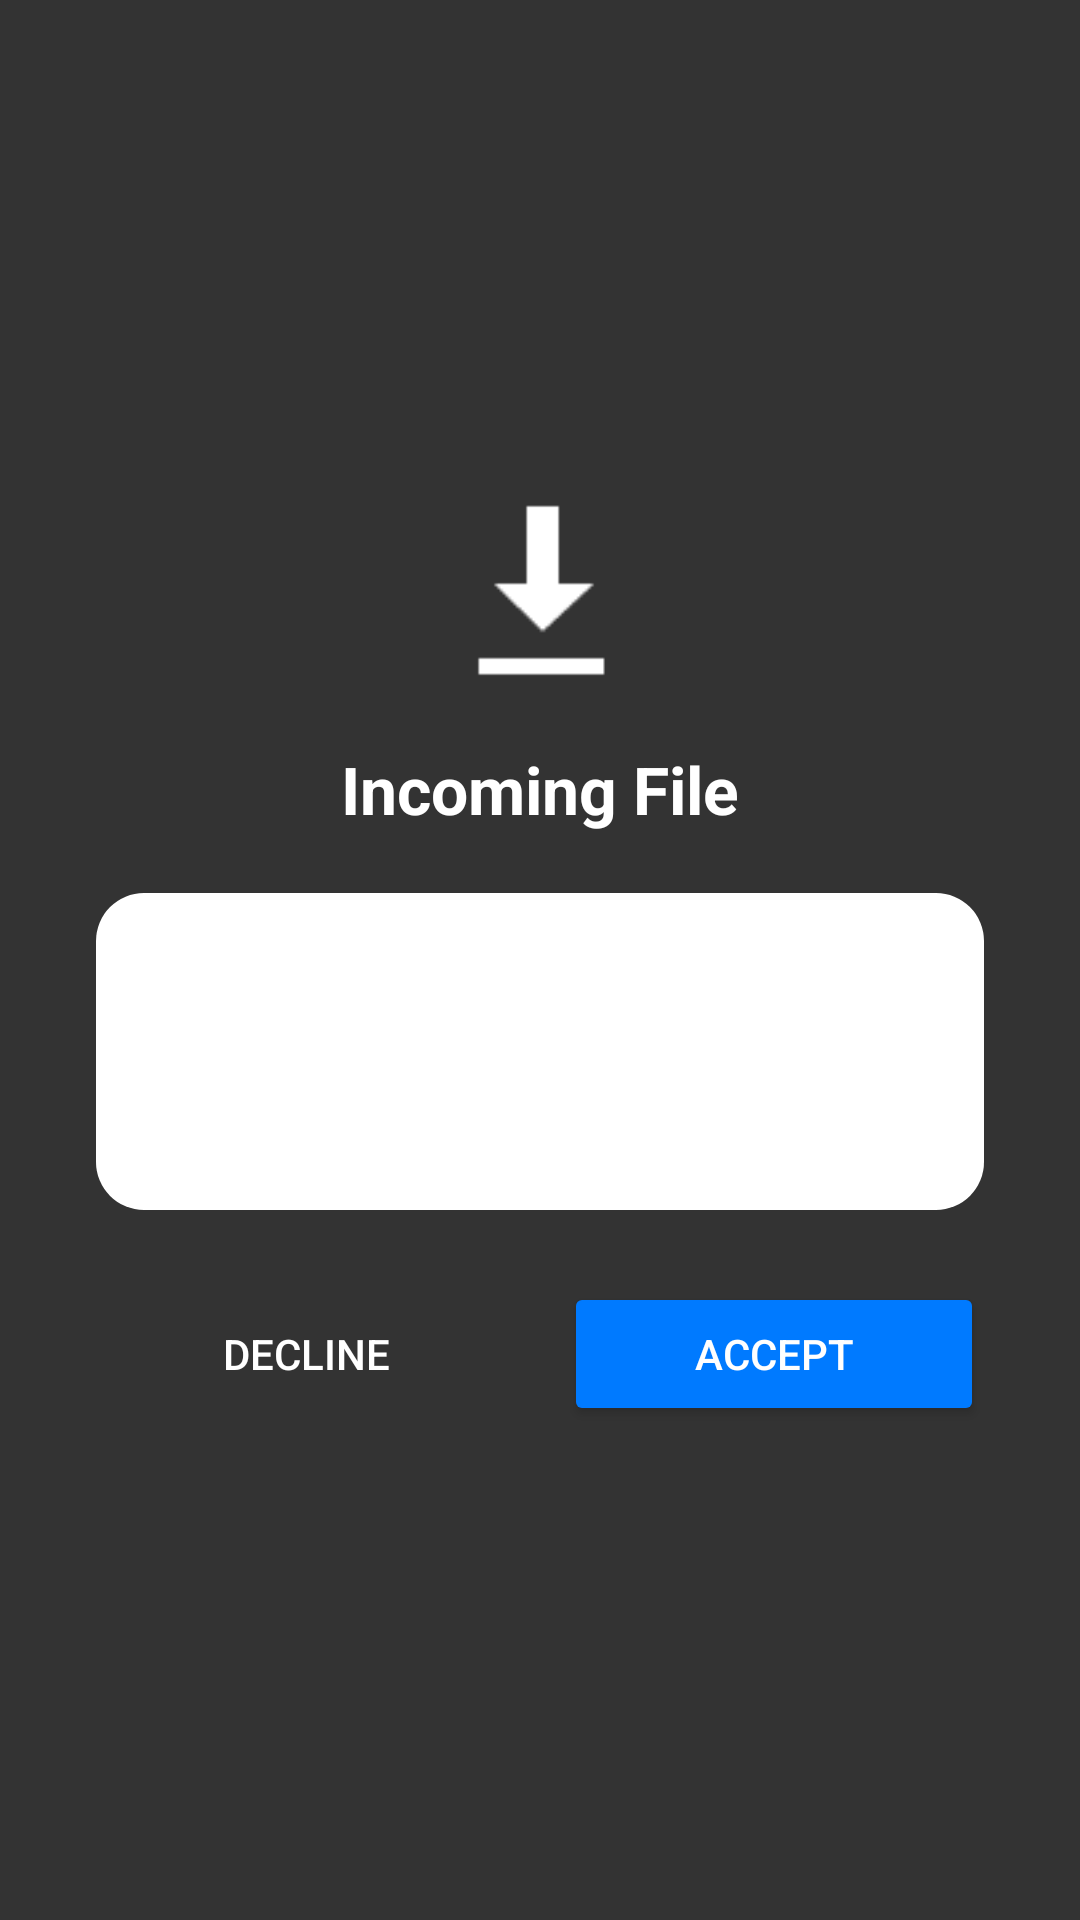

Icon bounding boxes for this 1080x1920 phone screenshot, format box(x1, y1, x2, y2):
download: box(478, 505, 605, 675)
